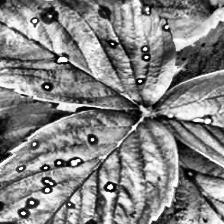Leaf Spot: (0, 108, 180, 224), (0, 0, 176, 110), (149, 62, 224, 198), (152, 136, 224, 224)
